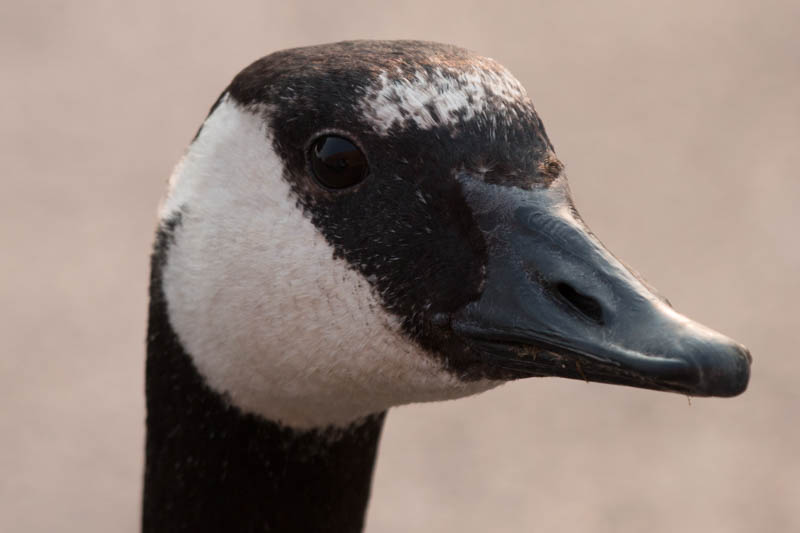goose-head: (145, 38, 752, 429)
